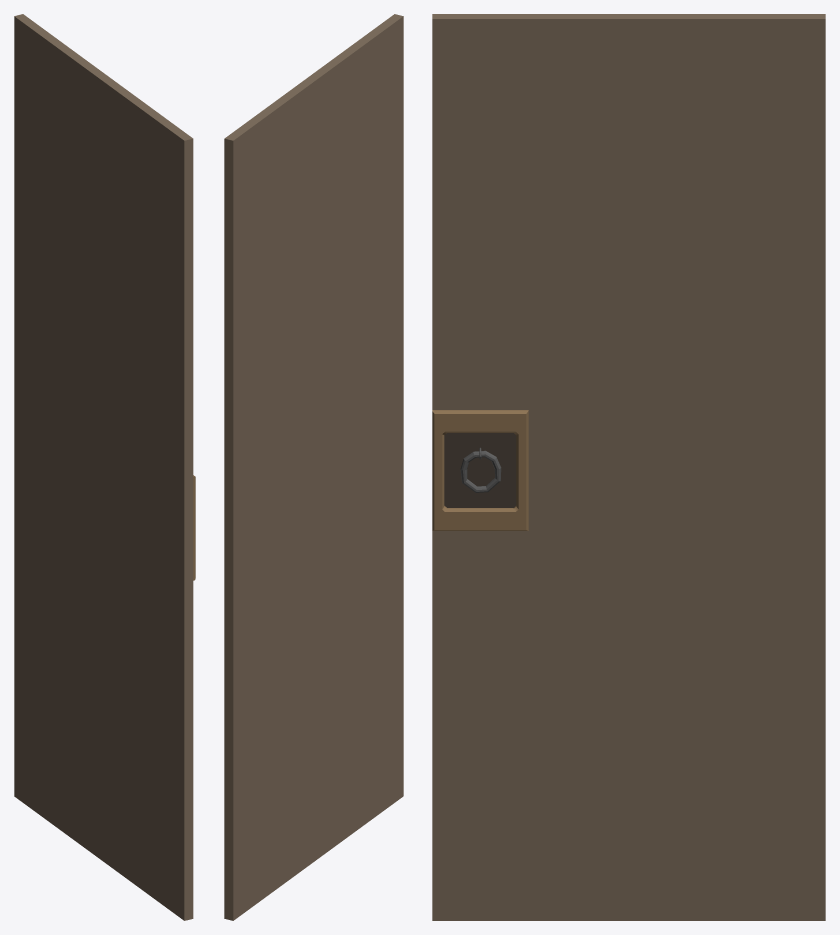
The model's file is Door_Right.fbx.
The picture shows the model from 3 angles, left to right: view 1: azimuth 30°, elevation 25°; view 2: azimuth 150°, elevation 25°; view 3: azimuth 270°, elevation 25°; orthographic projection. The views are drawn at different scales.
Parts seen in each view (by area): view 1: pTorus6; view 2: pTorus6; view 3: pTorus6.
Boxes of the visible parts, x1,y1,x2,y2 form: pTorus6: (14, 14, 195, 920); pTorus6: (224, 14, 403, 920); pTorus6: (432, 14, 825, 920).
Size of the model in its own units: 11.11 by 500 by 198.
